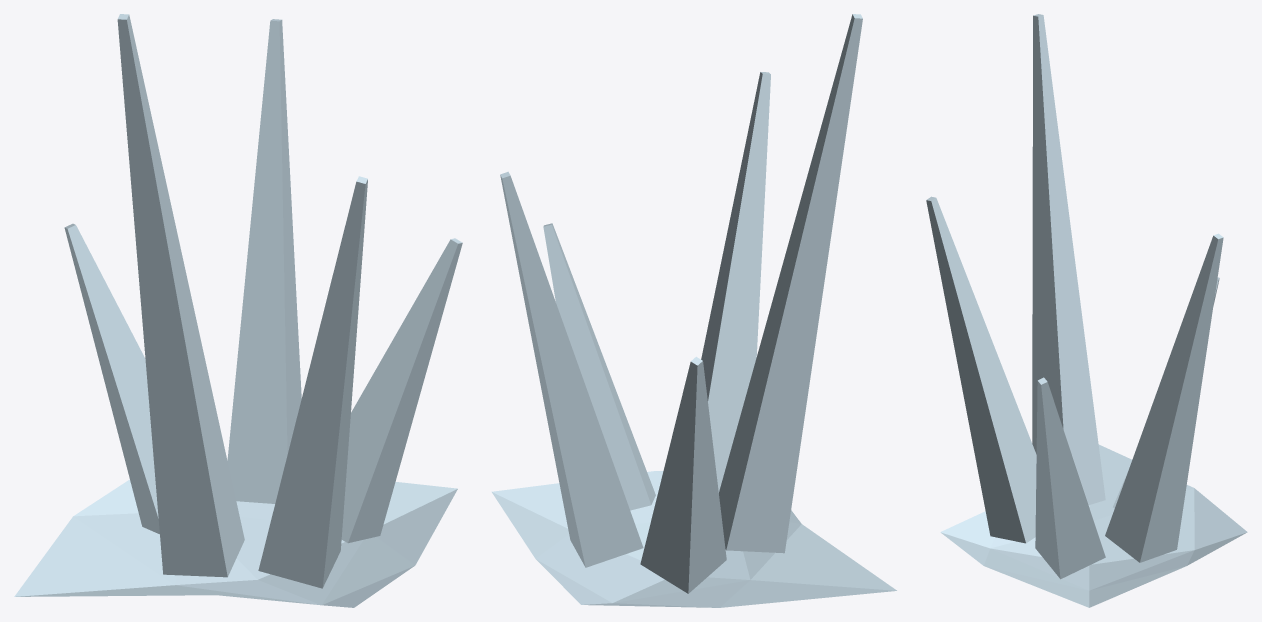
The model's file is ice_shard_v17.glb.
3 renders of one model, left to right at view 1: azimuth 30°, elevation 25°; view 2: azimuth 150°, elevation 25°; view 3: azimuth 270°, elevation 25°, orthographic. The views are drawn at different scales.
Parts seen in each view (by area): view 1: lod0; view 2: lod0; view 3: lod0.
Boxes of the visible parts, bbox=[...] form: lod0: bbox=[14, 14, 462, 607]; lod0: bbox=[491, 14, 896, 607]; lod0: bbox=[926, 14, 1247, 607].
Size of what is drawn, in the model's own units: 0.754 by 1.02 by 0.6105.
